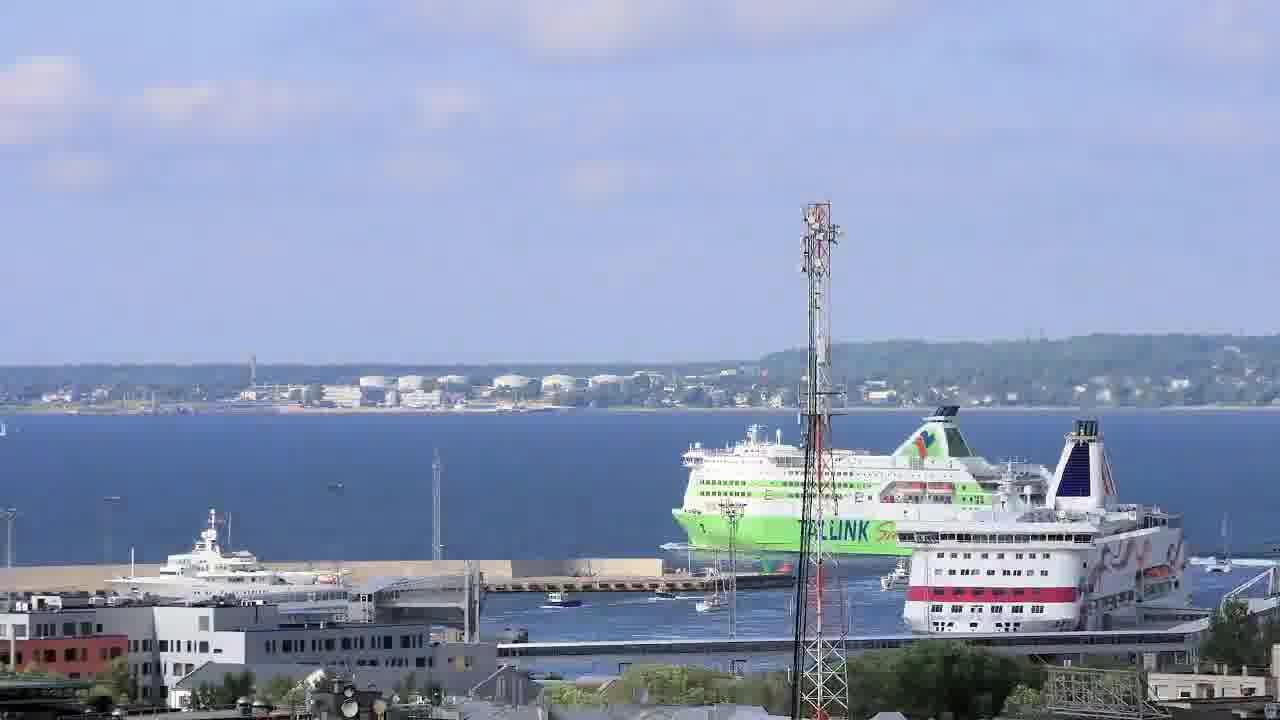type-0: (523, 581, 581, 620), (682, 589, 737, 624)
type-3: (868, 415, 1225, 638), (672, 425, 969, 574), (84, 511, 353, 609)
